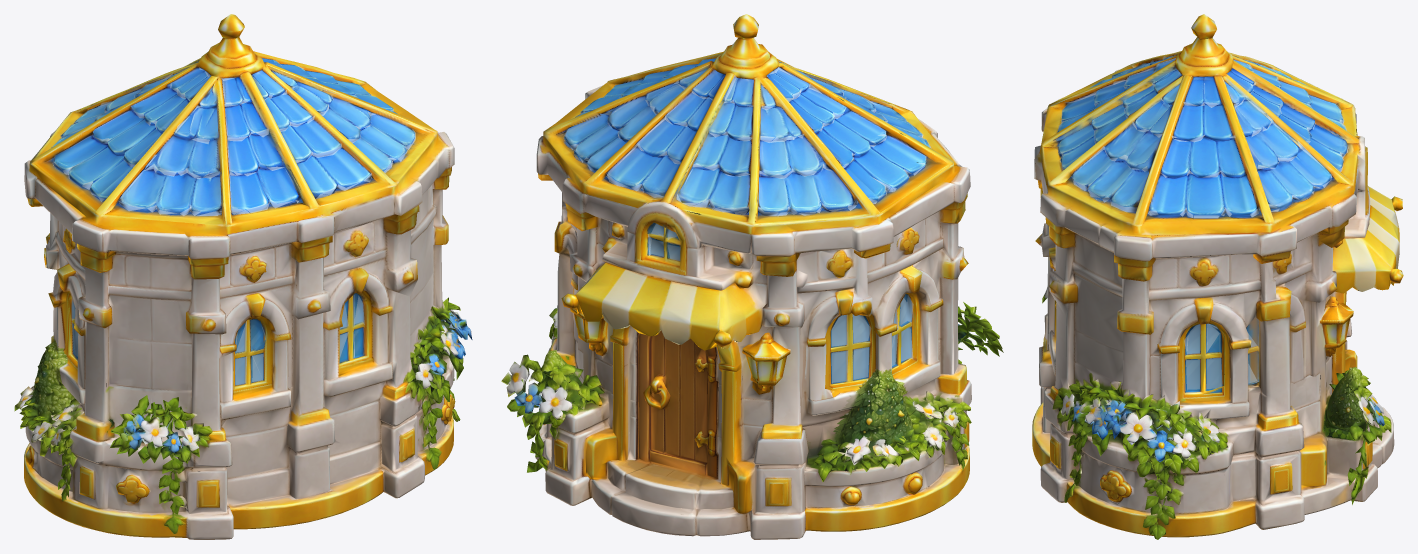
The model's file is HaloDomeHouse_07_parts.glb.
3 views of the same model, side by side, from view 1: azimuth 30°, elevation 25°; view 2: azimuth 150°, elevation 25°; view 3: azimuth 270°, elevation 25° (orthographic). The views are drawn at different scales.
Visible parts, largest first — view 1: HaloDomeHouse_07_Body_t01, HaloDomeHouse_07_Body_t11, HaloDomeHouse_07_Body_t10, HaloDomeHouse_07_Body_t00, HaloDomeHouse_07_Glass, HaloDomeHouse_07_WinPane; view 2: HaloDomeHouse_07_Body_t01, HaloDomeHouse_07_Body_t00, HaloDomeHouse_07_Body_t10, HaloDomeHouse_07_Body_t11, HaloDomeHouse_07_Door, HaloDomeHouse_07_Awning, HaloDomeHouse_07_Glass, HaloDomeHouse_07_WinPane, HaloDomeHouse_07_DoorHw; view 3: HaloDomeHouse_07_Body_t10, HaloDomeHouse_07_Body_t00, HaloDomeHouse_07_Body_t01, HaloDomeHouse_07_Body_t11, HaloDomeHouse_07_Awning, HaloDomeHouse_07_Glass, HaloDomeHouse_07_WinPane.
Boxes of the visible parts, left/top/right/bottom form: HaloDomeHouse_07_Body_t01: left=24, top=60, right=472, bottom=537; HaloDomeHouse_07_Body_t11: left=20, top=31, right=469, bottom=520; HaloDomeHouse_07_Body_t10: left=14, top=14, right=467, bottom=539; HaloDomeHouse_07_Body_t00: left=21, top=14, right=471, bottom=539; HaloDomeHouse_07_Glass: left=51, top=61, right=459, bottom=385; HaloDomeHouse_07_WinPane: left=53, top=67, right=458, bottom=384; HaloDomeHouse_07_Body_t01: left=507, top=52, right=986, bottom=538; HaloDomeHouse_07_Body_t00: left=509, top=14, right=994, bottom=530; HaloDomeHouse_07_Body_t10: left=501, top=14, right=1003, bottom=531; HaloDomeHouse_07_Body_t11: left=512, top=37, right=993, bottom=539; HaloDomeHouse_07_Door: left=635, top=330, right=738, bottom=509; HaloDomeHouse_07_Awning: left=561, top=262, right=762, bottom=373; HaloDomeHouse_07_Glass: left=563, top=60, right=931, bottom=383; HaloDomeHouse_07_WinPane: left=570, top=65, right=924, bottom=383; HaloDomeHouse_07_DoorHw: left=643, top=344, right=735, bottom=488; HaloDomeHouse_07_Body_t10: left=1034, top=14, right=1394, bottom=539; HaloDomeHouse_07_Body_t00: left=1034, top=14, right=1381, bottom=538; HaloDomeHouse_07_Body_t01: left=1032, top=51, right=1392, bottom=530; HaloDomeHouse_07_Body_t11: left=1034, top=37, right=1383, bottom=527; HaloDomeHouse_07_Awning: left=1332, top=186, right=1403, bottom=338; HaloDomeHouse_07_Glass: left=1057, top=55, right=1348, bottom=424; HaloDomeHouse_07_WinPane: left=1058, top=56, right=1347, bottom=420.
Bounding box in the file's own units: 18.68 × 19.59 × 15.19.
9 materials, 8 textured.
